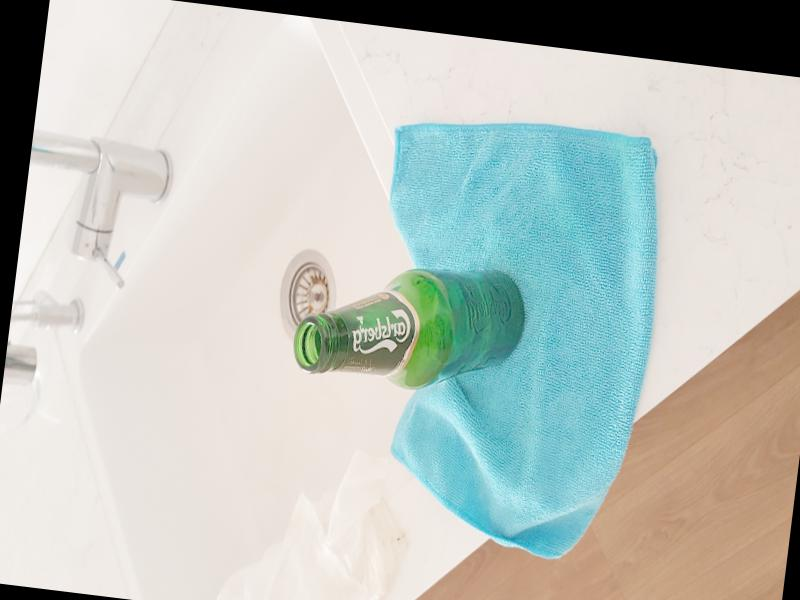Beer: (292, 251, 533, 403)
